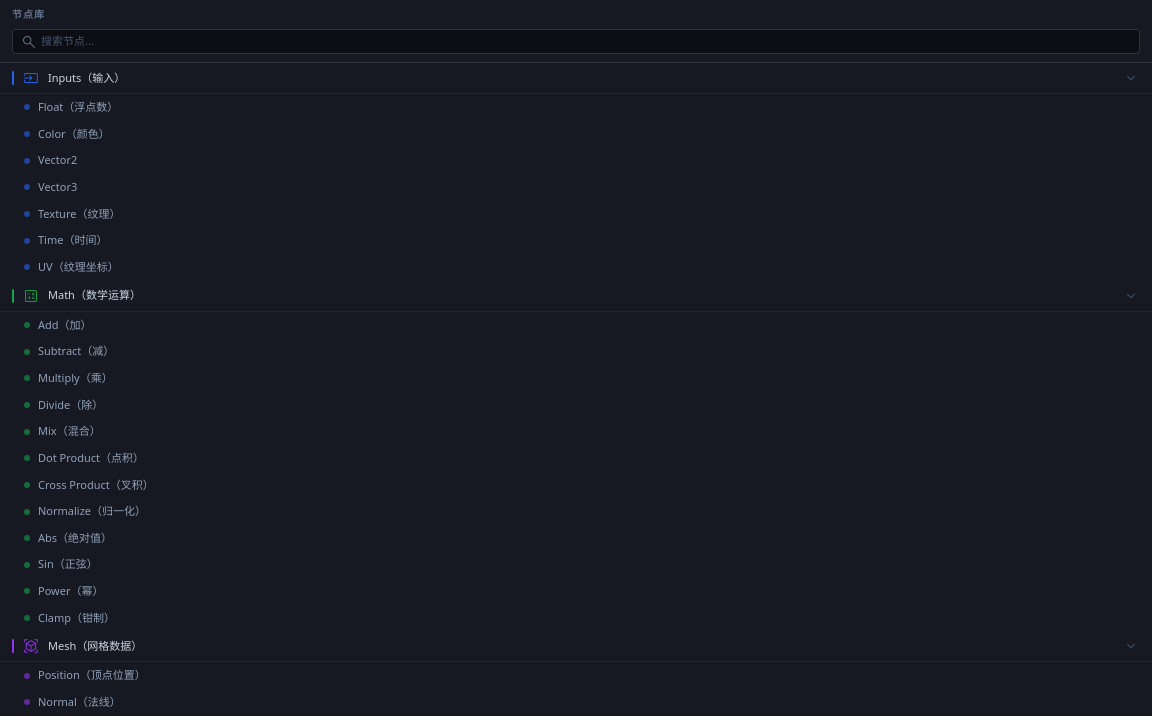
Test case: NodeLibraryPanel › 搜索过滤节点
This screenshot has width=1152, height=716.
Type "Color" into the field with placeholder "搜索节点..." at [576, 42], box [12, 29, 1140, 54]
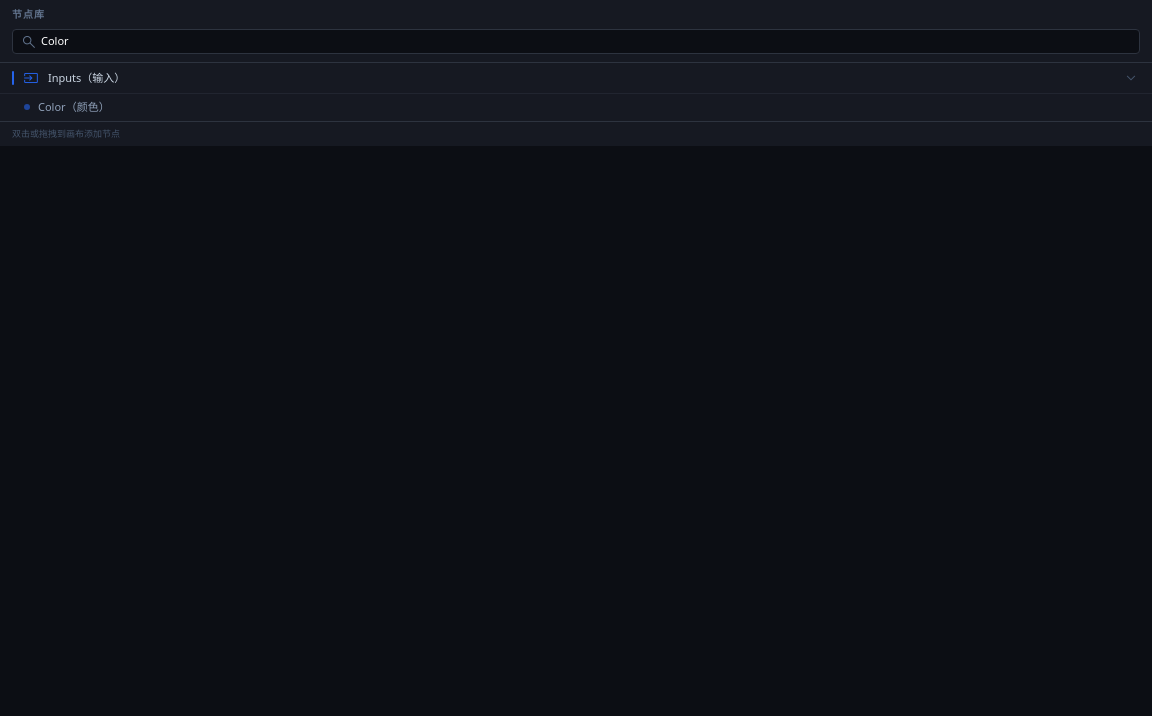
Check: the button with test id "node-item-ColorInput" is shown, box [0, 94, 1151, 121]
Check: the button with test id "node-item-FloatInput" is gone
